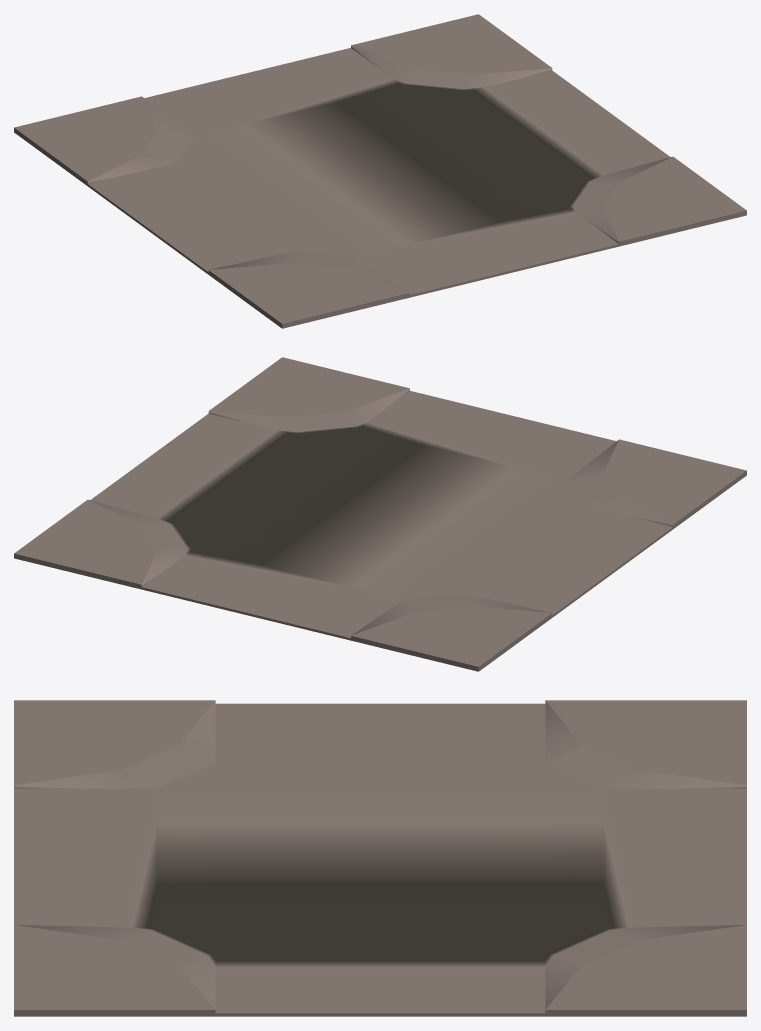
File: Env_1lane_Cross_col.fbx
3 views of the same model, one above another, from view 1: azimuth 30°, elevation 25°; view 2: azimuth 150°, elevation 25°; view 3: azimuth 270°, elevation 25° (orthographic). The views are drawn at different scales.
Visible parts, largest first — view 1: Env_1lane_Cross_col; view 2: Env_1lane_Cross_col; view 3: Env_1lane_Cross_col.
Part boxes in pixels (x1,y1,x2,y2): Env_1lane_Cross_col: (14, 14, 746, 328); Env_1lane_Cross_col: (14, 357, 746, 671); Env_1lane_Cross_col: (14, 700, 746, 1016).
Size of the model in its own units: 2000 by 20 by 2000.
